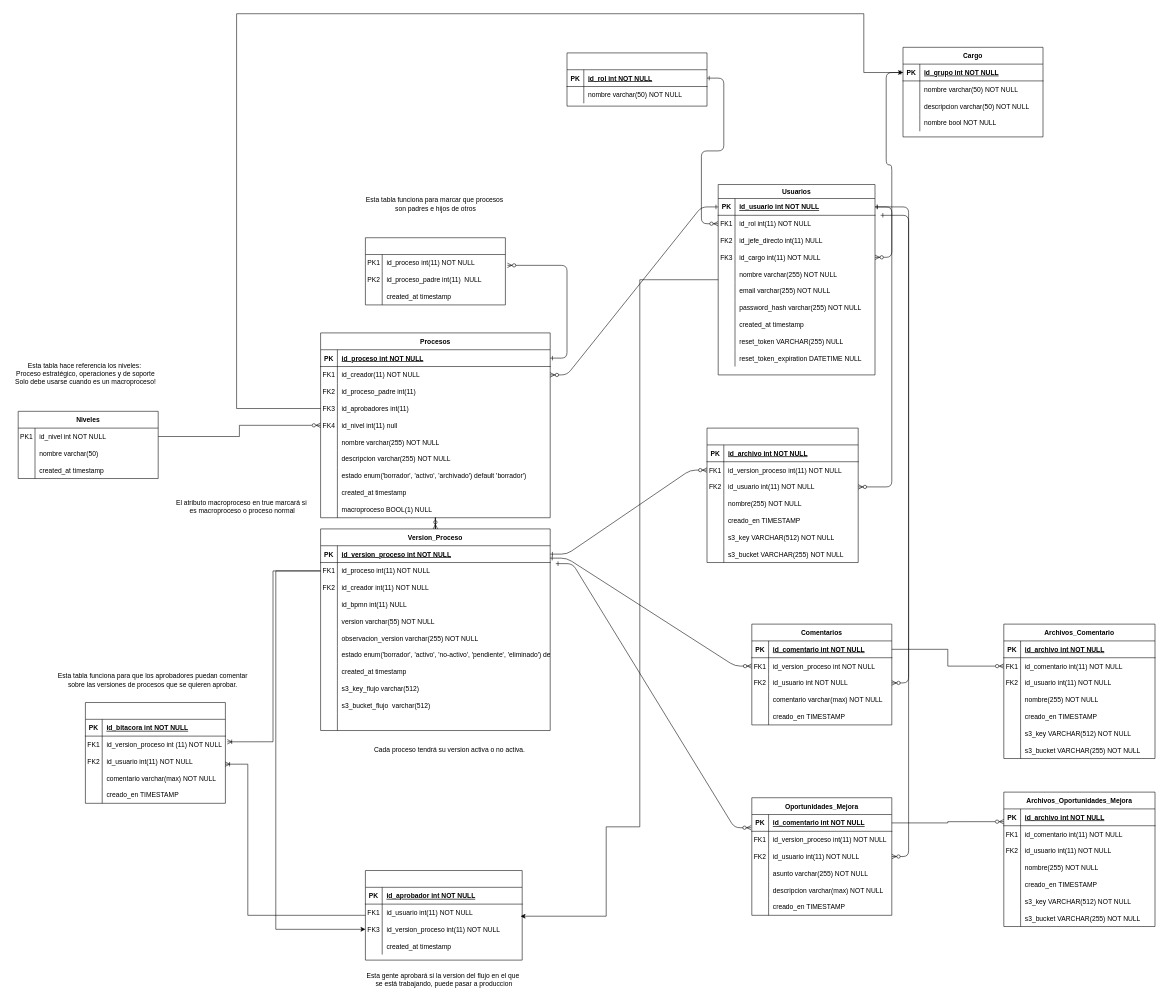
Some shapes in this 1165 by 1001 pixel diagram are drawn without their labels. The shapes that lost their labels are listed below. From the top down, each one's box as (x1, y1, x2, y2) in pixels, then its label:
(566, 52, 707, 106): Roles
(365, 237, 505, 305): Intermedia-procesos
(706, 428, 858, 563): Archivos_Version_Proceso
(85, 702, 225, 803): Bitacora_Aprobaciones
(365, 870, 522, 960): Aprobadores
